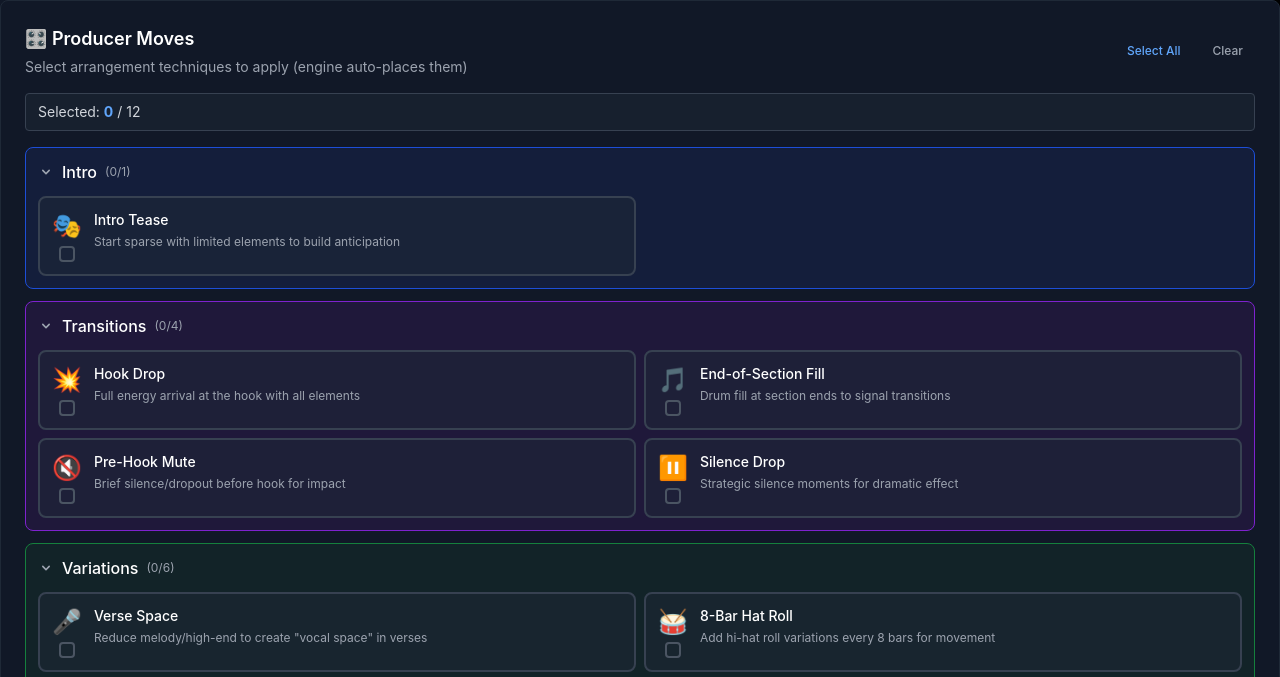
Scenario: ProducerMoves – category toggle › hides category moves when category header is clicked
This screenshot has width=1280, height=677.
Click the button "Intro (0/1)": (79, 172) x1=26 y1=148 x2=1254 y2=196
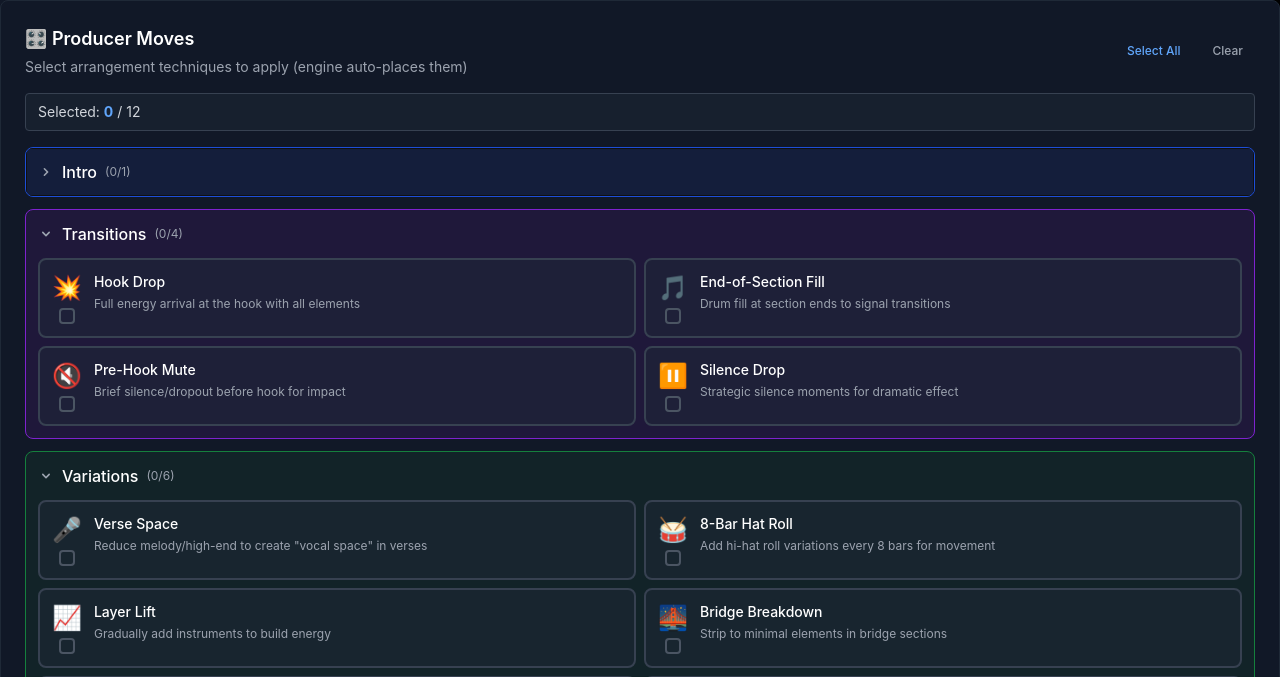
expect the button "Intro Tease" is gone: met
